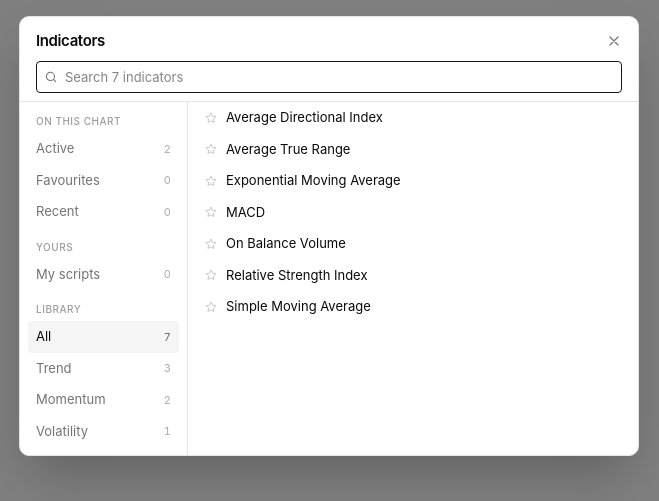
Test: the trader's own studies › says where to write one when there are none
Click the button with aria-label "My scripts, 0 indicators". click: (104, 274)
box: top-left (28, 258), bottom-right (179, 290)
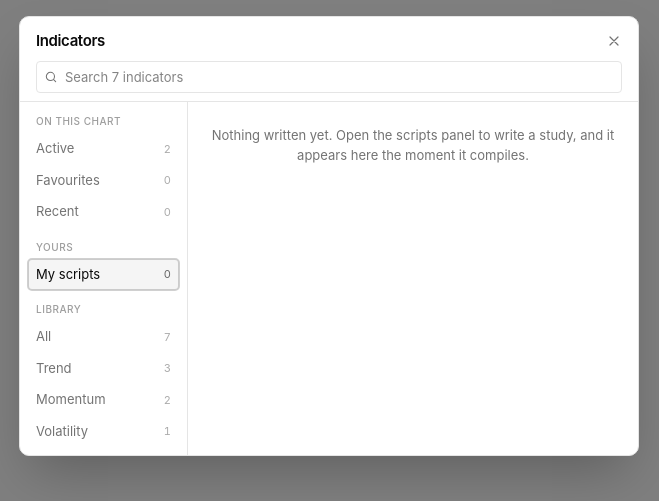
Now the text "Nothing written yet" is shown, box top-left (212, 127), bottom-right (614, 162)
